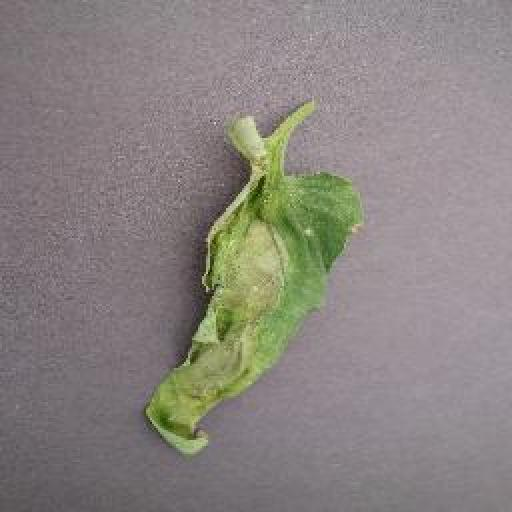disease_tomato: (147, 170, 365, 458)
